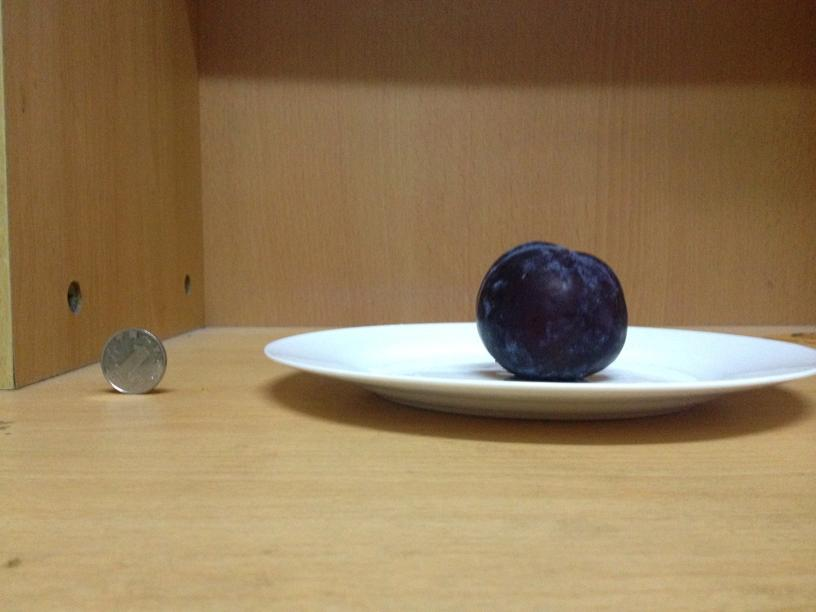coin: (100, 329, 169, 395)
plum: (475, 244, 625, 381)
